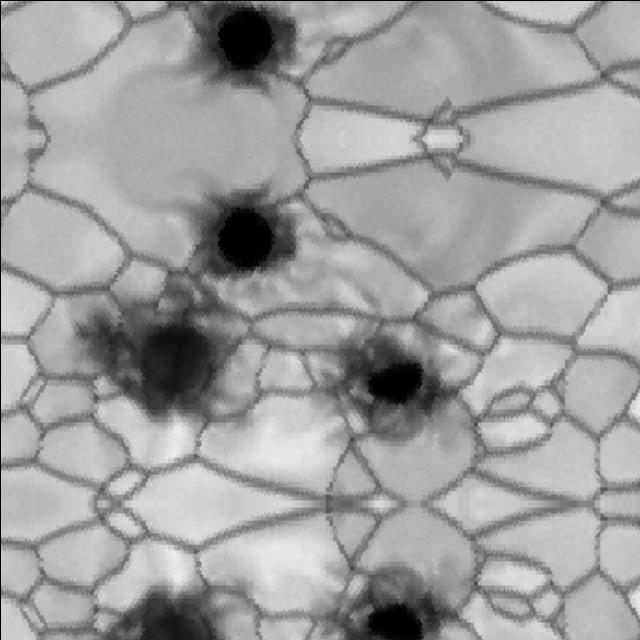good_void: (40, 128, 388, 473), (294, 280, 488, 471), (169, 0, 312, 107), (314, 561, 448, 640), (86, 576, 247, 640)
